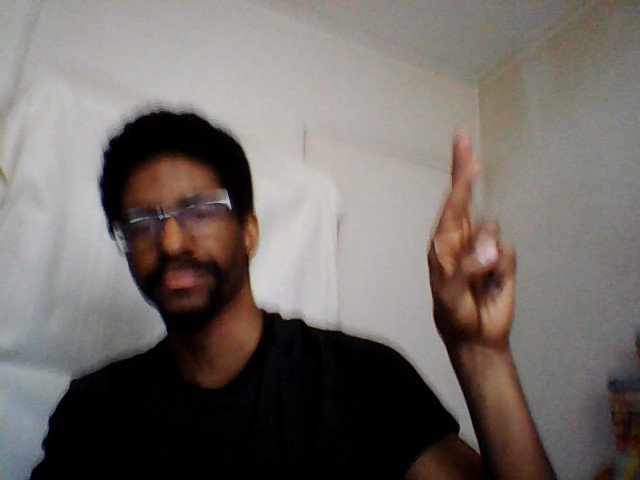r: (421, 125, 519, 353)
